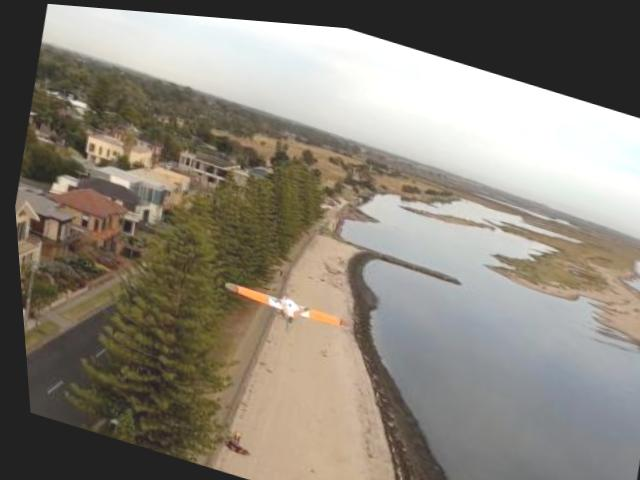uav: (211, 267, 353, 339)
